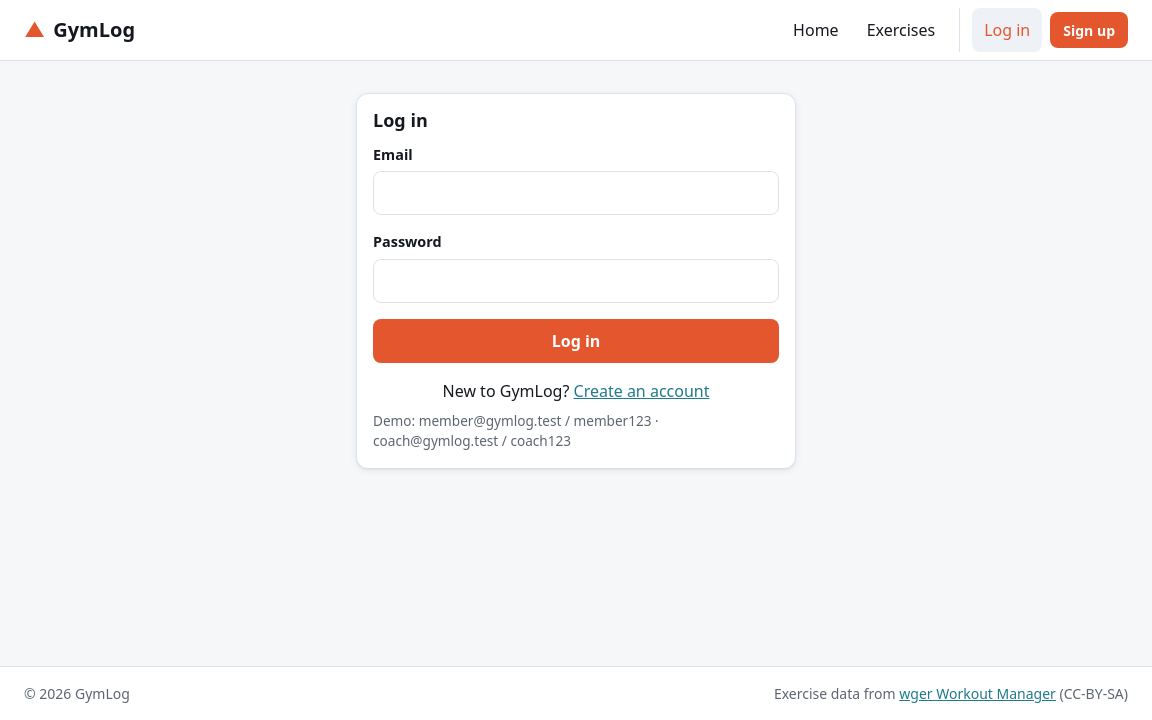
it: Login flow › logs in and updates the navbar through AuthContext
Step 1. Type "coach@gymlog.test" into the field labelled "Email" → (576, 193), box [373,171,779,215]
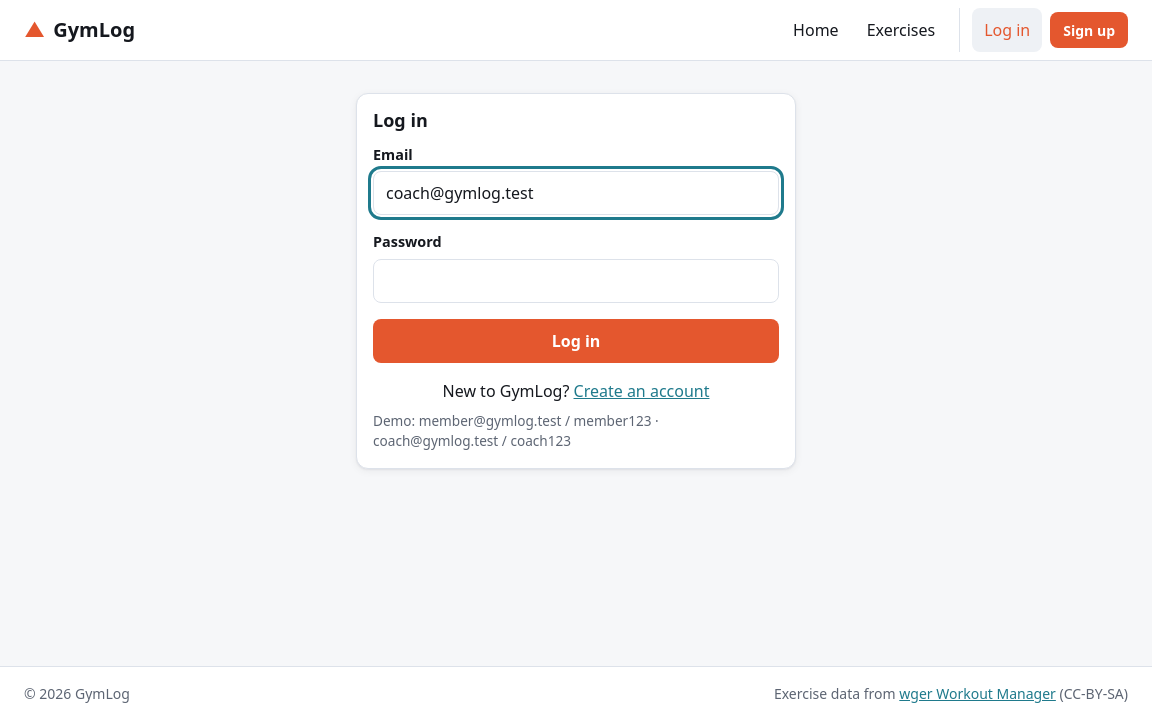
Step 2. Type "coach123" into the password field labelled "Password" → (576, 281), box [373,259,779,303]
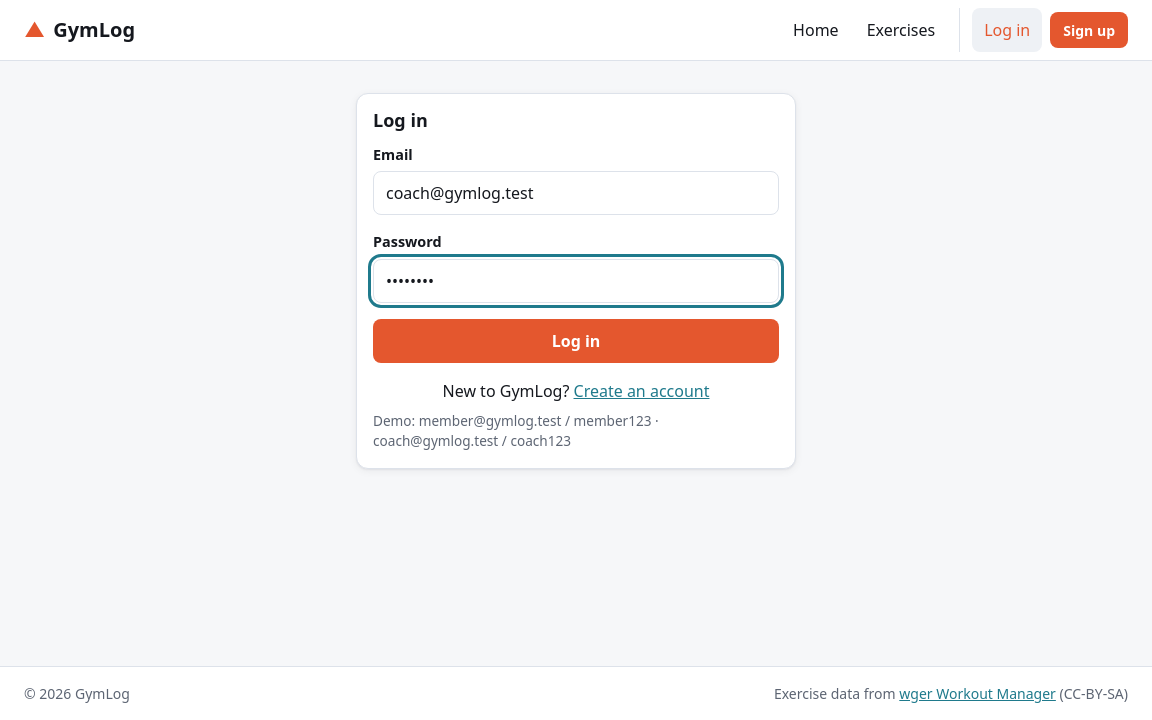
Step 3. Click the button "Log in" → (576, 341), box [373,319,779,363]
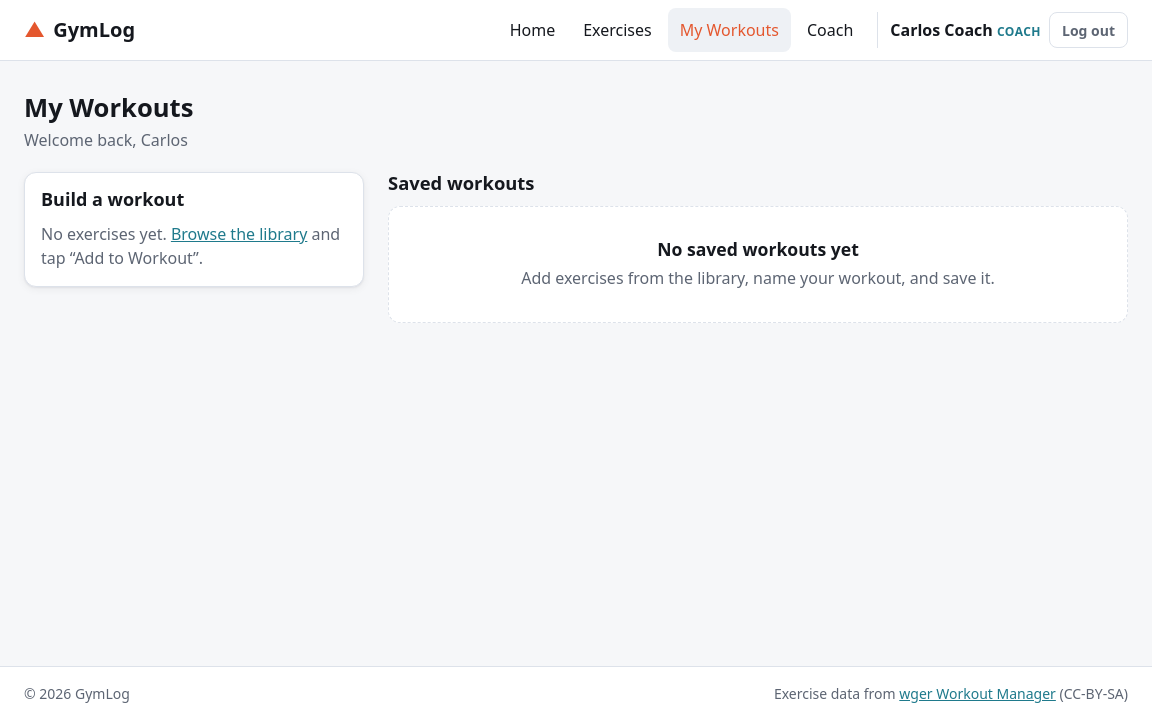
Check: the heading "My Workouts" is shown, box [24,93,193,124]
Check: the link "Coach" is shown, box [807,19,853,41]
Check: the text "Carlos Coach" is shown, box [890,19,993,41]
